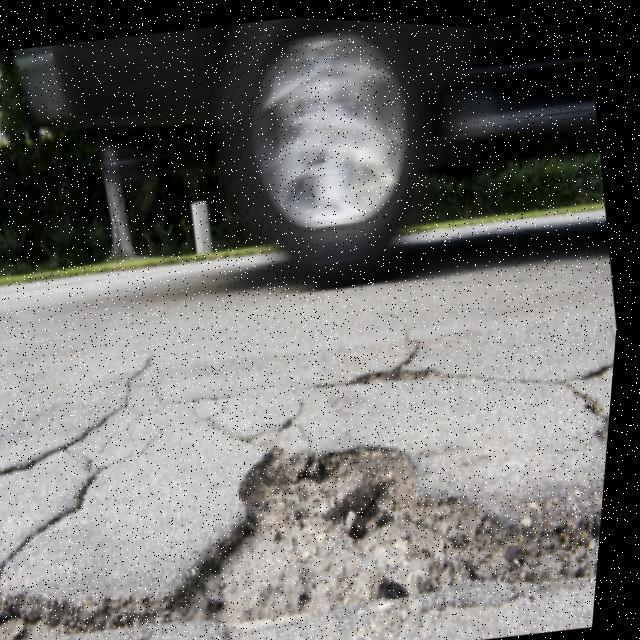Pothole: (0, 433, 608, 635)
